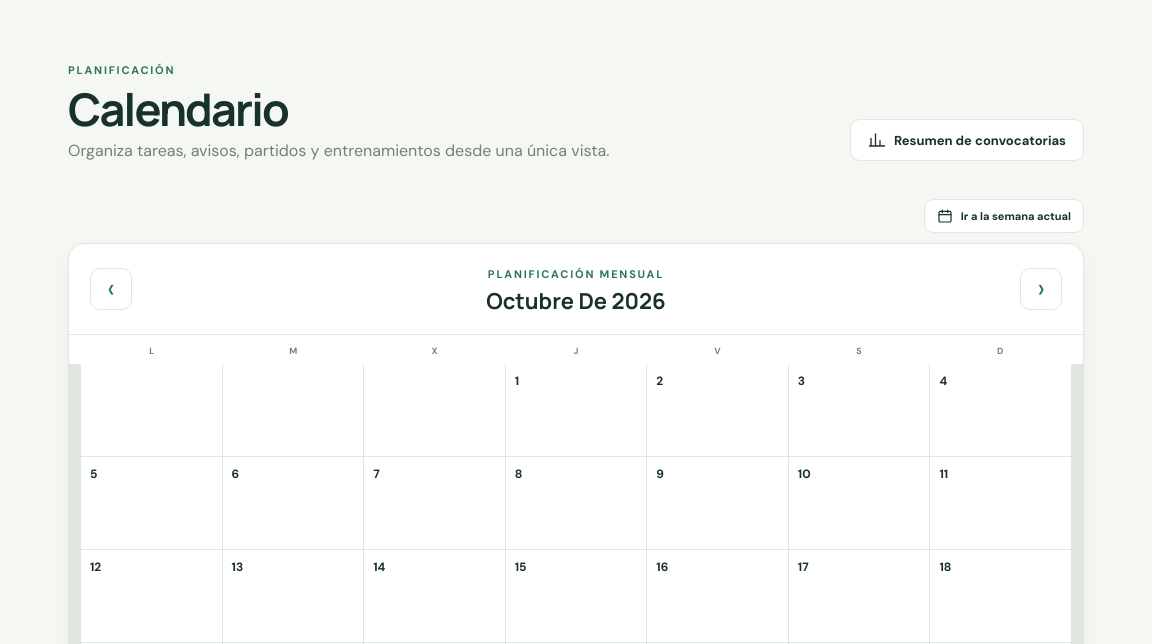
CalendarView › opens the callup report from the header
Click the button "Resumen de convocatorias" at (967, 140), box [850,119,1084,161]
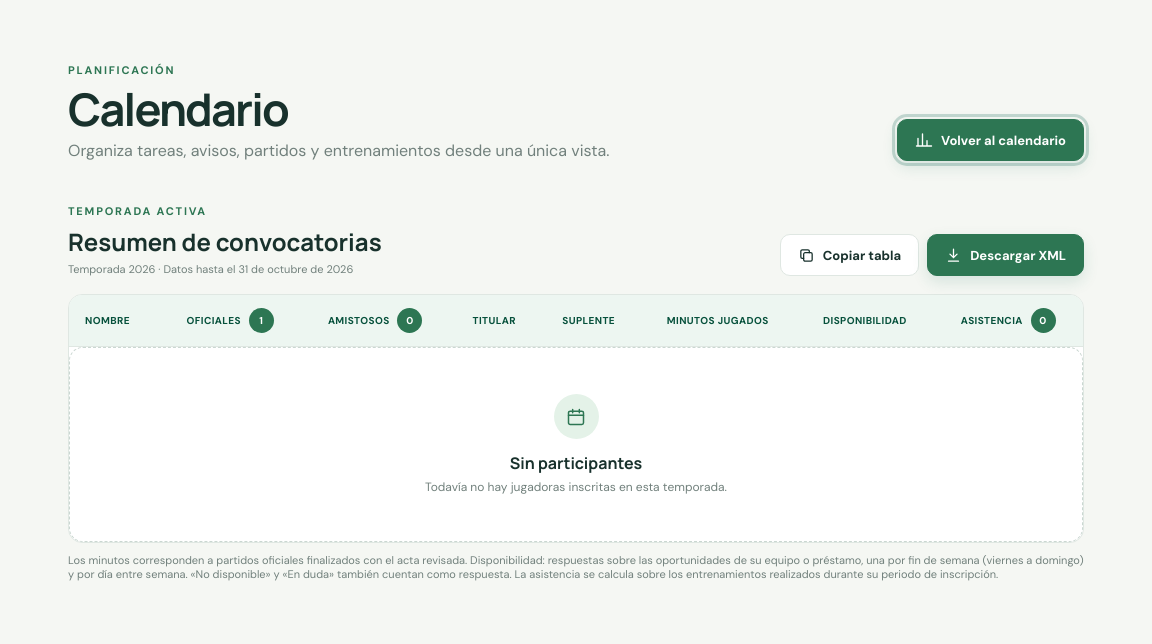
Expected: the heading "Resumen de convocatorias" is shown, [68,225,382,258]
Now the button "Volver al calendario" is shown, box [897,119,1084,161]
